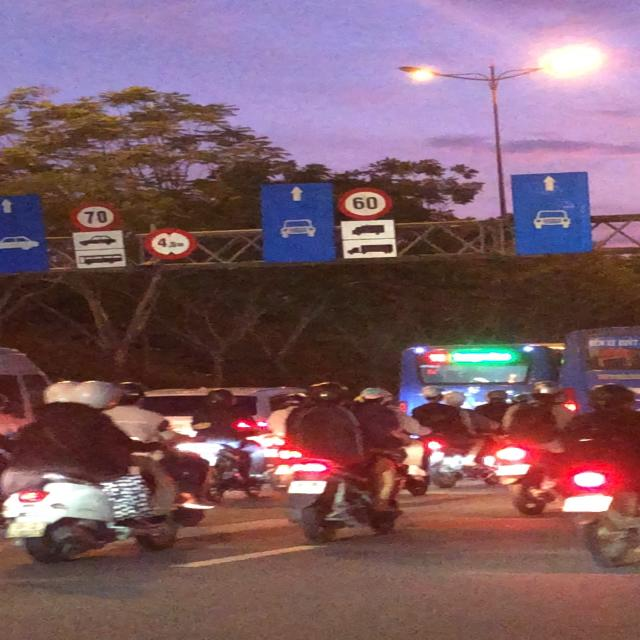Bien bao han che chieu cao: (134, 227, 203, 263)
Bien bao toc do toi da cho phep: (328, 186, 402, 220), (65, 198, 127, 230)
